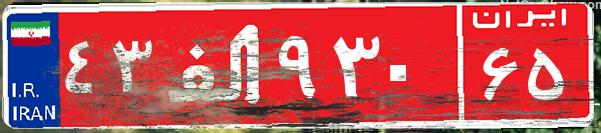0: (385, 28, 445, 110)
3: (330, 28, 385, 110), (110, 28, 158, 105)
4: (57, 26, 110, 107)
5: (525, 38, 570, 115)
6: (475, 38, 525, 113)
9: (273, 28, 330, 110)
الف: (158, 15, 273, 115)
